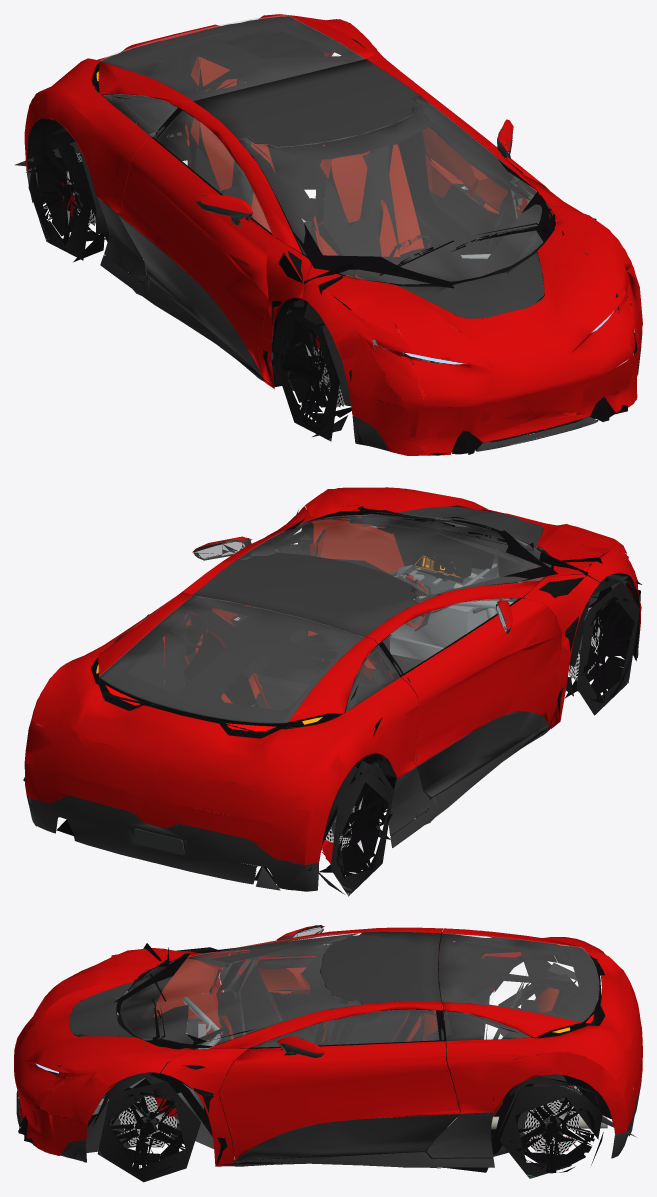
File: sedan-parked.glb
3 renders of one model, top to bottom at view 1: azimuth 30°, elevation 25°; view 2: azimuth 150°, elevation 25°; view 3: azimuth 270°, elevation 25°, orthographic. The views are drawn at different scales.
Visible parts, largest first — view 1: glass_BodyWindshield, panel_hood.001, panel_BodyDoorRColor1, panel_BodyRoofPanel, glass_BodyRearwindow, panel_bumper_front, panel_rear_quarter_L, BodyWindshieldGasket, panel_front_fender_L, InteriorSeatsColor1, panel_BodyPillars, InteriorPillar (+26 smaller); view 2: panel_rear_quarter_L, glass_BodyRearwindow, panel_BodyDoorRColor1, panel_rear_quarter_R, panel_BodyPanelsColor2, glass_BodyWindshield, panel_BodyRoofPanel, panel_bumper_rear.001, InteriorRearHatch, panel_BodyPillars, InteriorPillar, panel_BodyDoorRColor2 (+29 smaller); view 3: panel_BodyDoorLColor1, glass_BodyWindshield, panel_rear_quarter_R, glass_BodyRearwindow, panel_BodyRoofPanel, panel_hood.001, panel_BodyPillars, panel_BodyDoorLColor2, panel_BodyPanelsColor2, panel_front_fender_R, InteriorDoorR01, BodyWindshieldGasket (+31 smaller).
Boxes of the visible parts, x1,y1,x2,y2 form: glass_BodyWindshield: (238, 95, 542, 284); panel_hood.001: (350, 228, 632, 407); panel_BodyDoorRColor1: (118, 138, 272, 372); panel_BodyRoofPanel: (193, 59, 418, 147); glass_BodyRearwindow: (100, 15, 364, 100); panel_bumper_front: (349, 328, 642, 455); panel_rear_quarter_L: (25, 34, 191, 202); BodyWindshieldGasket: (240, 96, 547, 288); panel_front_fender_L: (302, 265, 426, 407); InteriorSeatsColor1: (184, 56, 423, 256); panel_BodyPillars: (178, 55, 586, 389); InteriorPillar: (153, 37, 428, 183); panel_rear_quarter_L: (156, 637, 418, 830); glass_BodyRearwindow: (99, 595, 364, 723); panel_BodyDoorRColor1: (401, 598, 561, 765); panel_rear_quarter_R: (25, 592, 191, 800); panel_BodyPanelsColor2: (27, 632, 639, 891); glass_BodyWindshield: (238, 512, 550, 602); panel_BodyRoofPanel: (193, 552, 417, 636); panel_bumper_rear.001: (24, 753, 416, 864); InteriorRearHatch: (100, 596, 376, 726); panel_BodyPillars: (182, 506, 599, 728); InteriorPillar: (172, 591, 424, 721); panel_BodyDoorRColor2: (416, 711, 548, 797); panel_BodyDoorLColor1: (219, 1041, 459, 1160); glass_BodyWindshield: (120, 933, 360, 1045); panel_rear_quarter_R: (442, 990, 642, 1105); glass_BodyRearwindow: (439, 933, 599, 1022); panel_BodyRoofPanel: (321, 931, 441, 1004); panel_hood.001: (14, 963, 158, 1106); panel_BodyPillars: (160, 927, 442, 1166); panel_BodyDoorLColor2: (236, 1114, 459, 1160); panel_BodyPanelsColor2: (16, 992, 641, 1168); panel_front_fender_R: (34, 1046, 193, 1125); InteriorDoorR01: (220, 945, 441, 1049); BodyWindshieldGasket: (114, 933, 359, 1049).
Size of the model in its own units: 2.2 by 1.3 by 4.64.
28 materials, 5 textured.
